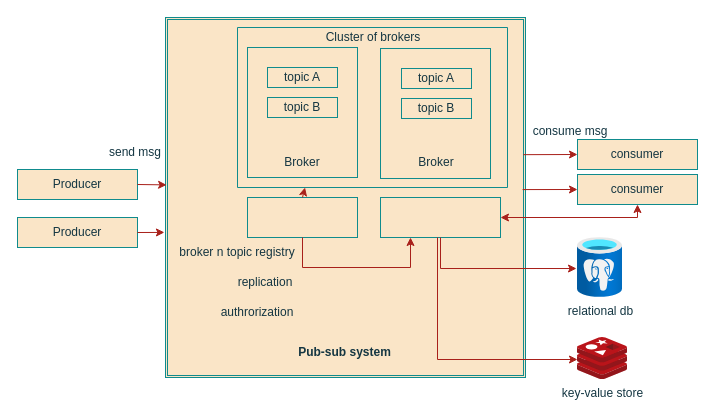
Image size: 715x418. Some labels were removed from this diagram. The shapes that lost their labels are listed below. From the top down, each one's box as (x1, y1, x2, y2) in pixels, then its label:
(246, 196, 358, 238): cluster-manager
(380, 196, 500, 238): consumer-manager
